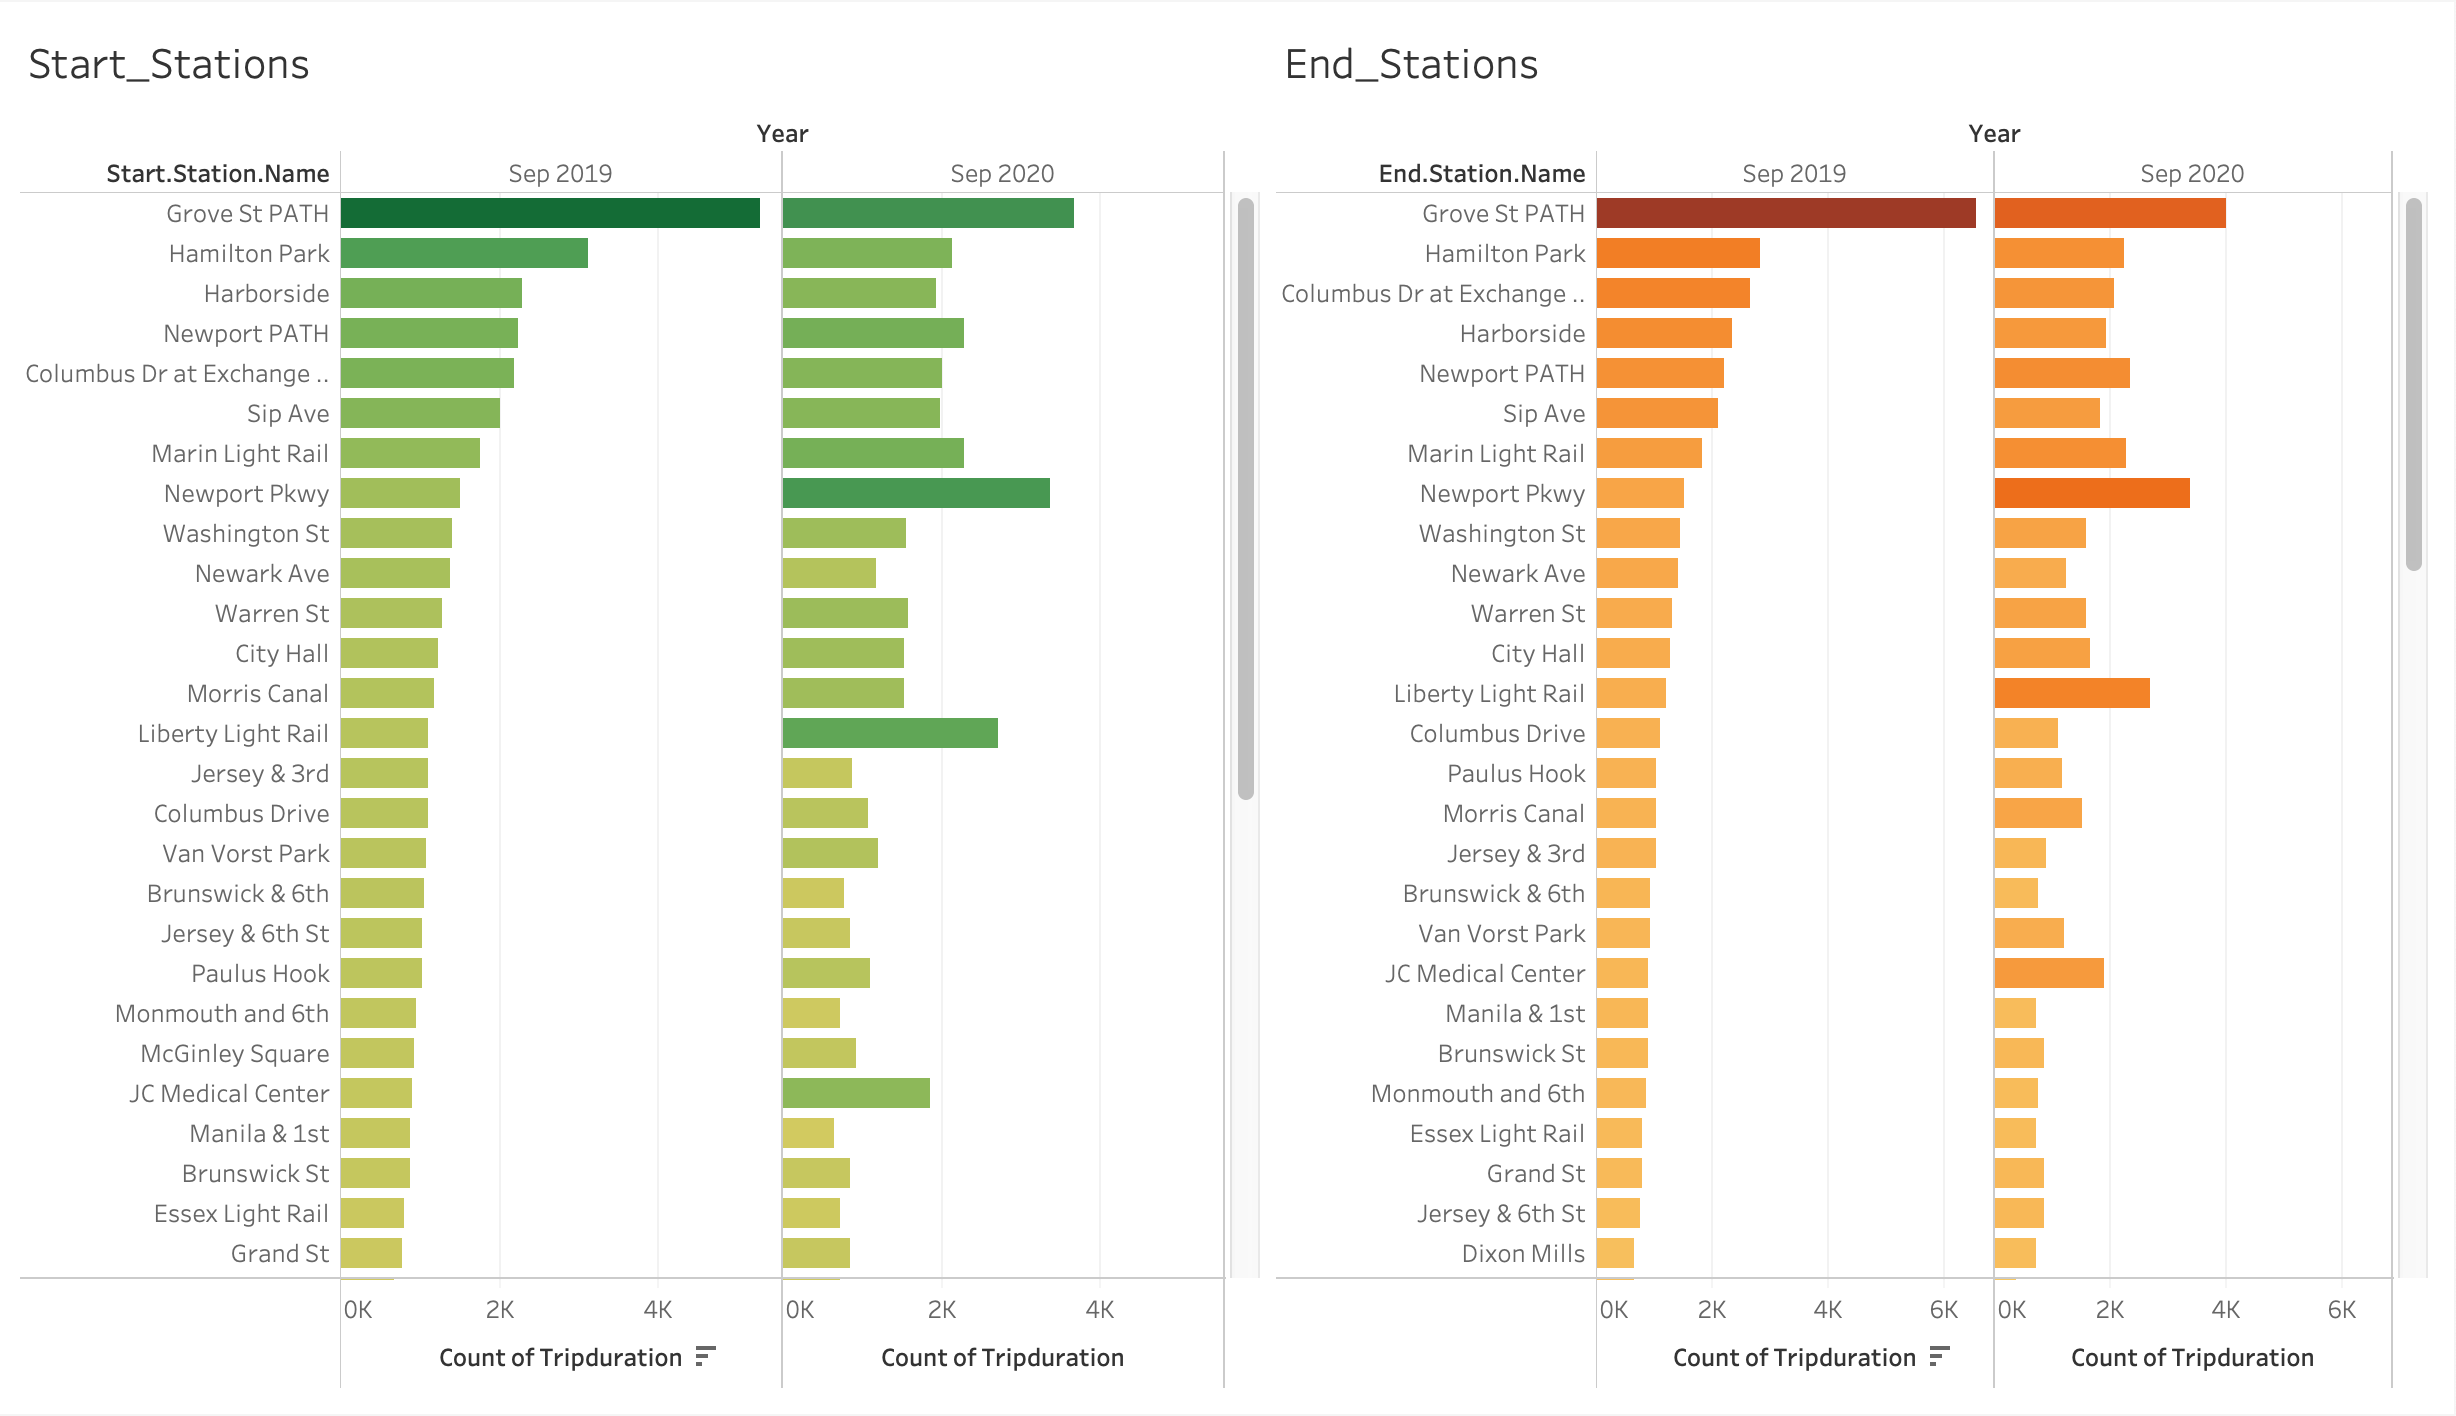

The page's visual inventory and layout, read from the dashboard file:
{"tool":"tableau","page":{"name":"DB_2","canvas":[1000,1000],"units":"permille","ordinal":1},"visuals":[{"type":"worksheet","box":[0,0,1000,1000]},{"type":"worksheet","param":"horz","box":[6.5,11.3,987,977.3]},{"type":"worksheet","box":[6.5,11.3,511,977.3]},{"type":"worksheet","title":"Start_Stations","mark":"Automatic","rows":["start.station.name"],"cols":["year","tripduration"],"box":[6.5,11.3,511,977.3]},{"type":"worksheet","param":"vert","box":[517.5,11.3,476,977.3]},{"type":"worksheet","title":"End_Stations","mark":"Automatic","rows":["end.station.name"],"cols":["year","tripduration"],"box":[517.5,11.3,476,977.3]}]}

Visuals, with their boxes on the dashboard's canvas, which has no fixed pixel size, in thousandths of its width and height (x1, y1, x2, y2). These are canvas units, not pixel positions in the 2456x1416 screenshot, which may show the page scaled, cropped or inside an application window:
worksheet: (x1=0, y1=0, x2=1000, y2=1000)
worksheet: (x1=6, y1=11, x2=994, y2=989)
worksheet: (x1=6, y1=11, x2=518, y2=989)
"Start_Stations" worksheet: (x1=6, y1=11, x2=518, y2=989)
worksheet: (x1=518, y1=11, x2=994, y2=989)
"End_Stations" worksheet: (x1=518, y1=11, x2=994, y2=989)
